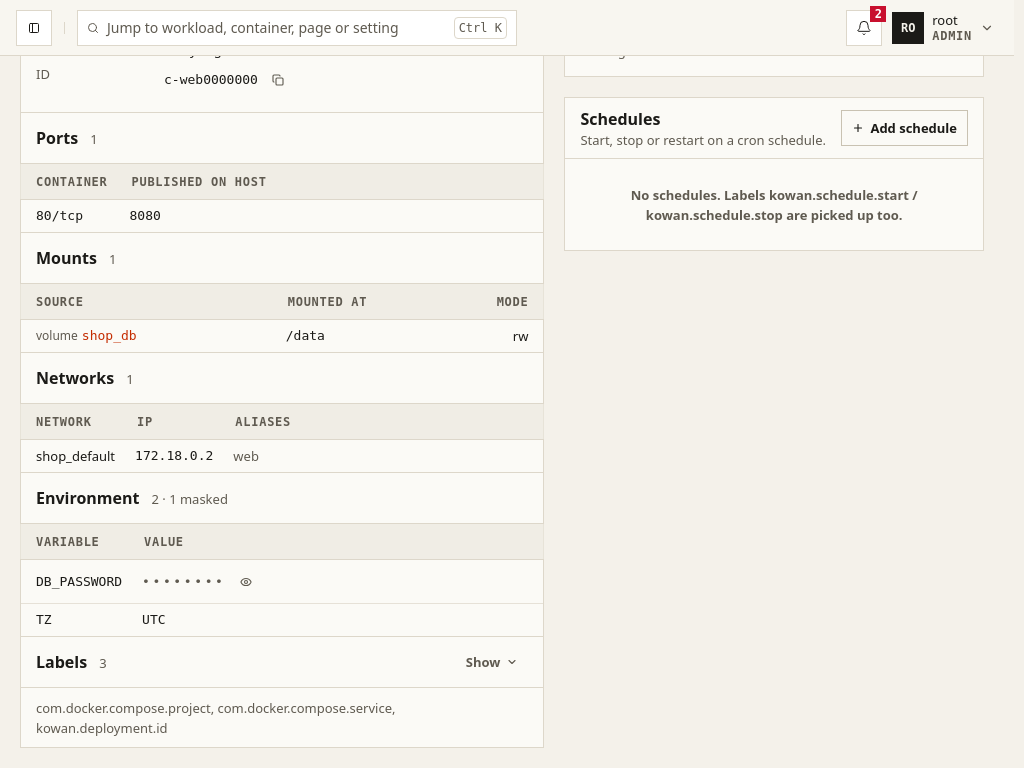
Test: container detail › shows the overview and masks secrets until revealed
(page scrolled)
Expected: the text "8080" is shown, [120,200,544,232]
Expected: the text "hunter2" is not shown
What coordinates should you click on to do the following:
click the button named "Reveal DB_PASSWORD"
I would click on:
 (246, 582)
Its box is [230,566,262,598].
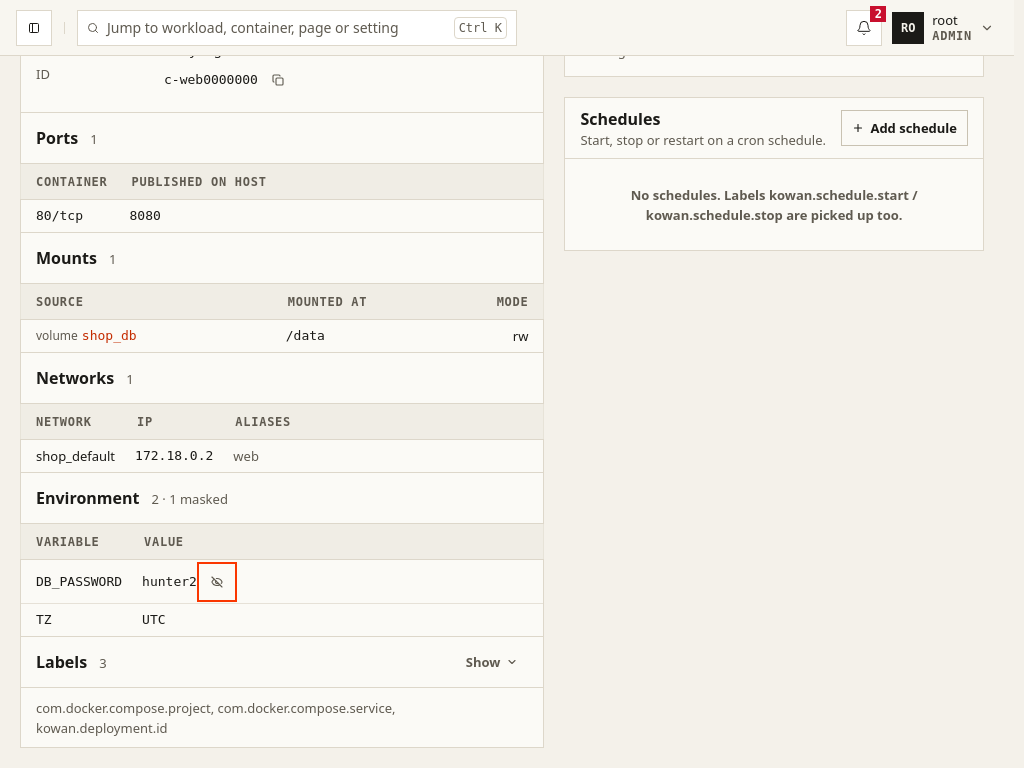
Expected: the link "shop_db" is shown, [82,328,137,343]
Expected: the text "hunter2" is shown, [142,566,233,598]
